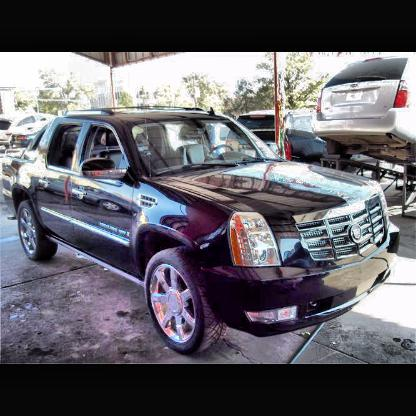Cadillac Escalade EXT Crew Cab 2007: (12, 103, 394, 361)
